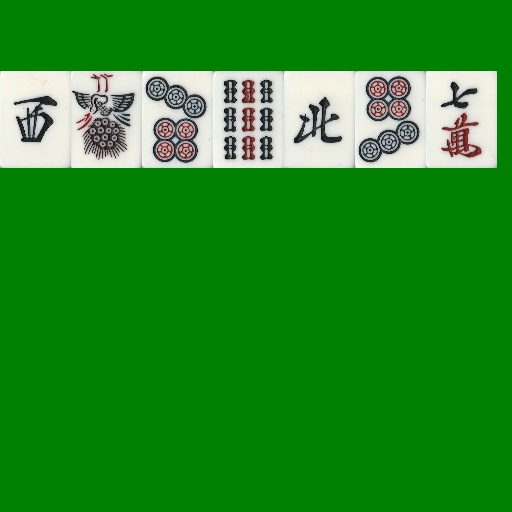1s: (71, 71, 142, 168)
7m: (426, 71, 497, 168)
7p: (142, 71, 213, 168), (355, 71, 426, 168)
9s: (213, 71, 284, 168)
north: (284, 71, 355, 168)
west: (0, 71, 71, 168)
